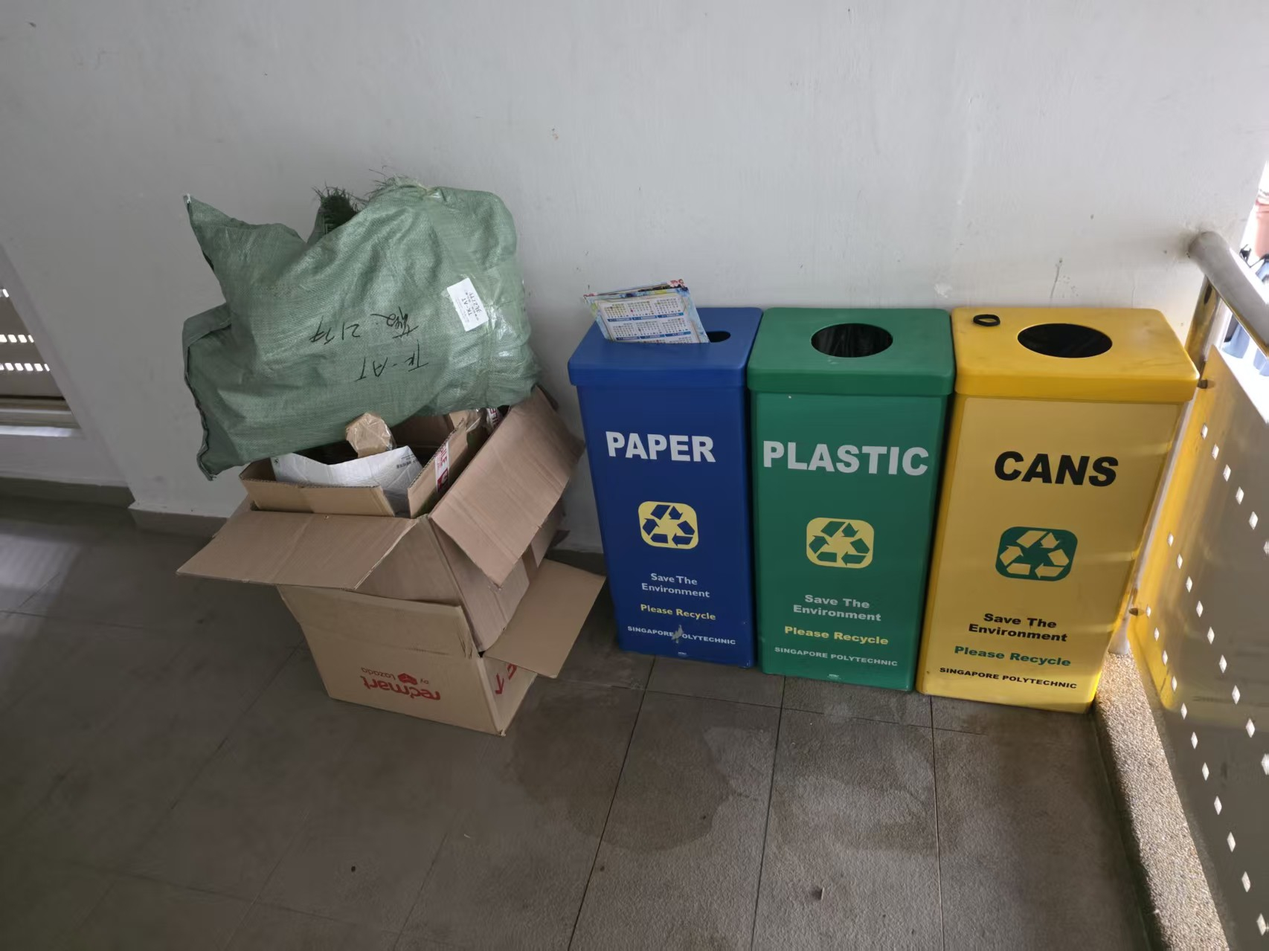bin_empty: (916, 305, 1197, 710), (748, 308, 953, 691), (568, 308, 762, 667)
bulk_waste: (182, 178, 538, 478), (179, 388, 582, 650), (280, 560, 604, 735)
